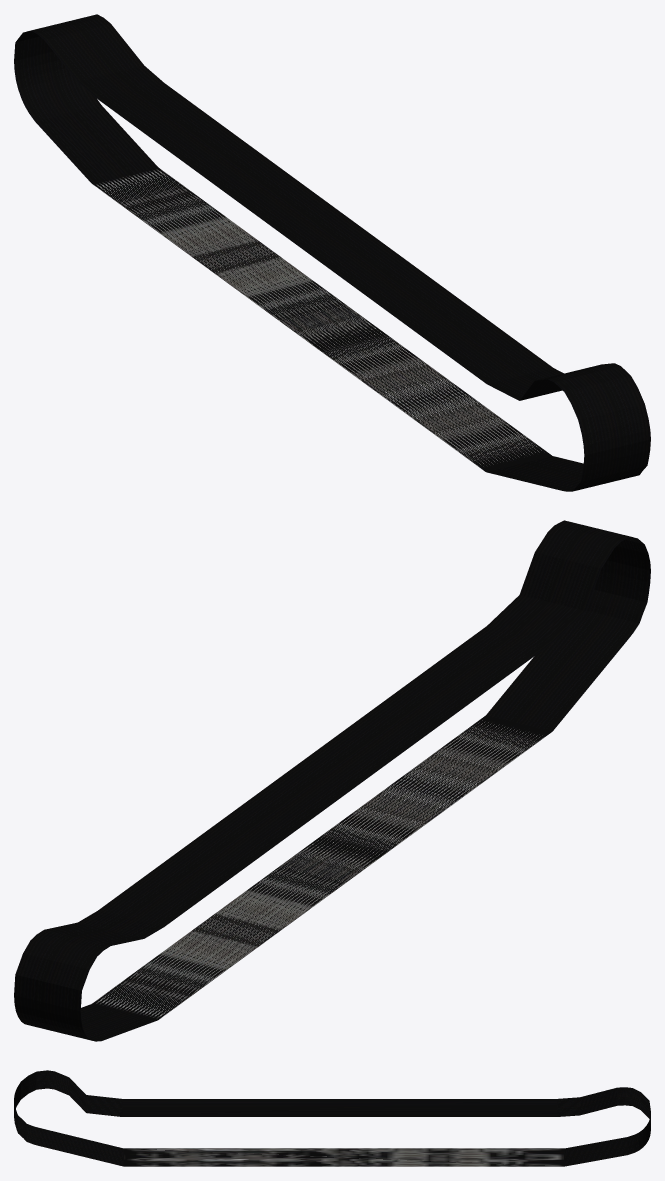
File: simple_truck.fbx
The picture shows the model from 3 angles, top to bottom: view 1: azimuth 30°, elevation 25°; view 2: azimuth 150°, elevation 25°; view 3: azimuth 270°, elevation 25°; orthographic projection. The views are drawn at different scales.
Visible parts, largest first — view 1: Truck; view 2: Truck; view 3: Truck.
Part boxes in pixels (<box>): Truck: <box>14,14,650,491</box>; Truck: <box>14,520,650,1041</box>; Truck: <box>14,1070,650,1166</box>.
Bounding box in the file's own units: 0.5162 × 1.03 × 7.64.
Materials: 1 (1 with a texture image).
